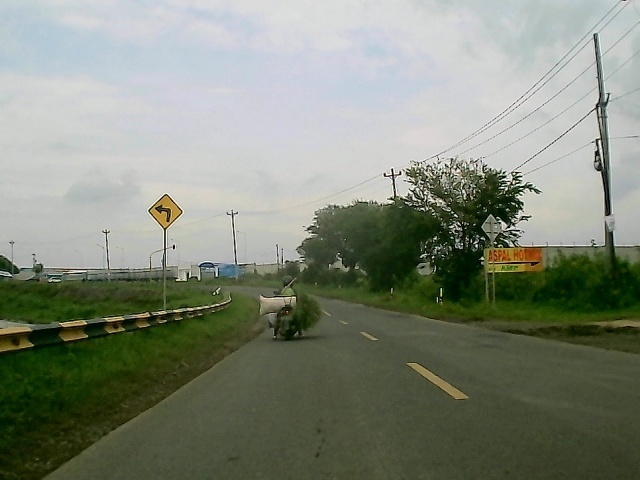Tikungan tajam ke kiri: (145, 192, 184, 231)
